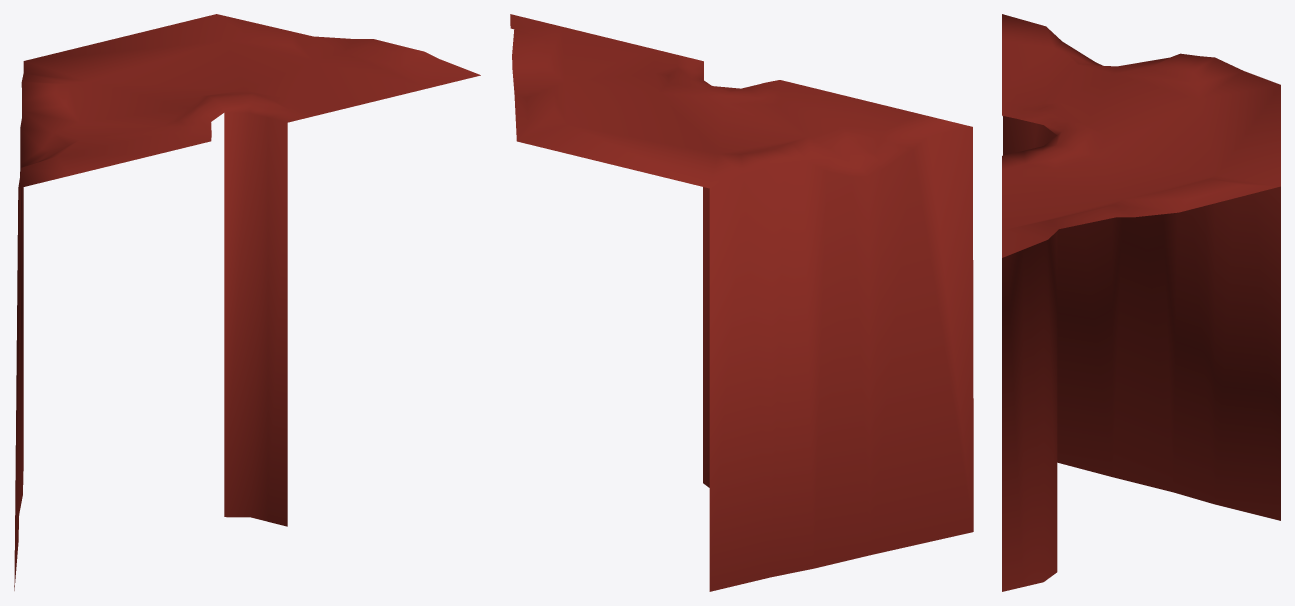
Rendered from f_link_left.fbx.
3 views of the same model, side by side, from view 1: azimuth 30°, elevation 25°; view 2: azimuth 150°, elevation 25°; view 3: azimuth 270°, elevation 25° (orthographic). The views are drawn at different scales.
Parts seen in each view (by area): view 1: f_link_left_02; view 2: f_link_left_02; view 3: f_link_left_02.
Part boxes in pixels (x1,y1,x2,y2): f_link_left_02: [14, 14, 480, 590]; f_link_left_02: [510, 14, 973, 591]; f_link_left_02: [1002, 14, 1280, 591].
Bounding box in the file's own units: 2412 × 2061 × 1159.
